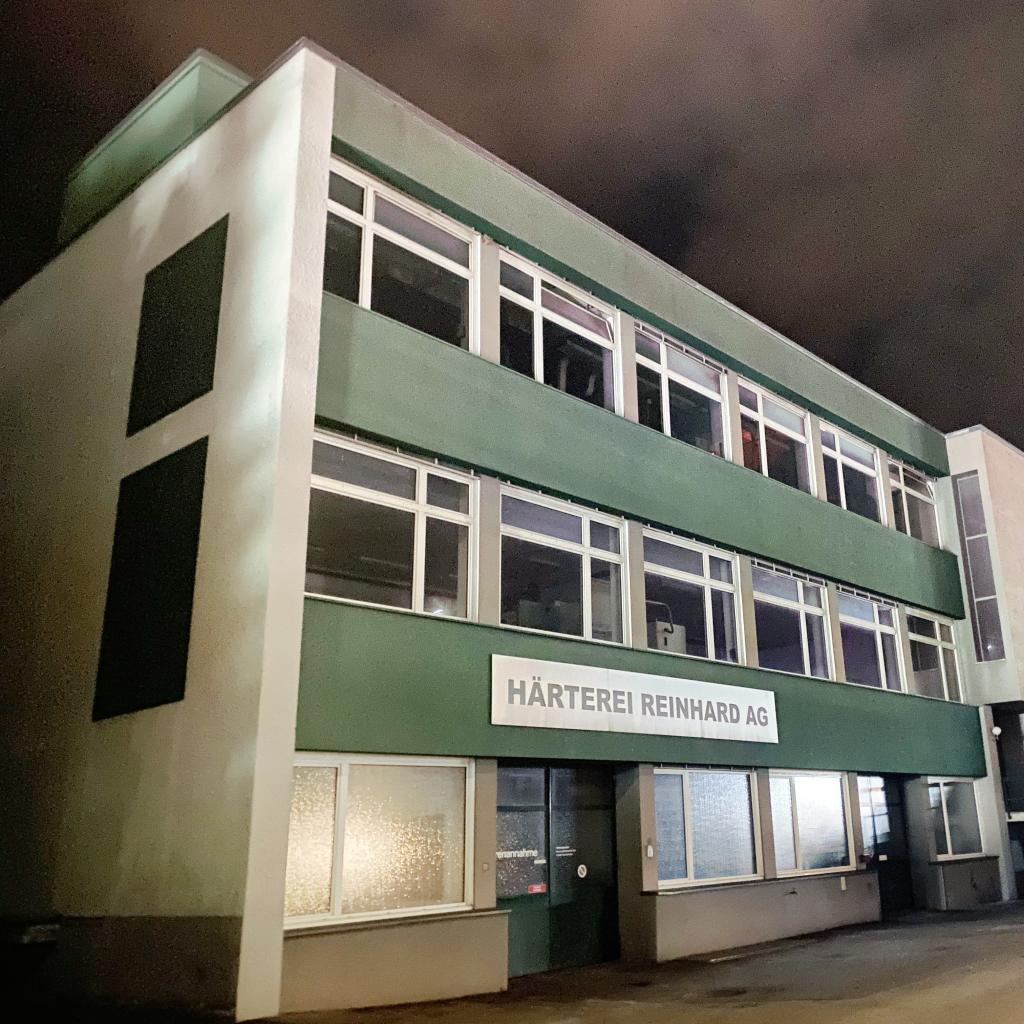facade: (0, 35, 1024, 1024)
shop: (279, 598, 1000, 1016)
street: (246, 903, 1024, 1024)
window: (303, 424, 481, 623), (283, 749, 475, 932), (89, 435, 210, 724), (322, 151, 479, 357), (123, 215, 228, 440), (499, 481, 633, 648), (497, 244, 624, 419), (644, 524, 748, 667), (634, 318, 733, 464), (653, 767, 765, 890), (752, 557, 837, 682), (952, 469, 1006, 663), (738, 373, 818, 499), (767, 769, 858, 879), (835, 584, 908, 694), (819, 419, 885, 526), (905, 603, 966, 705), (887, 453, 943, 549), (927, 774, 987, 861)
